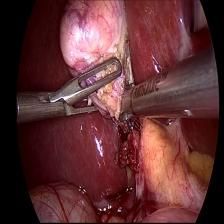Clipper: (116, 82, 150, 127)
Grasper: (42, 55, 123, 127)
